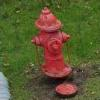a fire hydrant: (33, 8, 72, 84)
